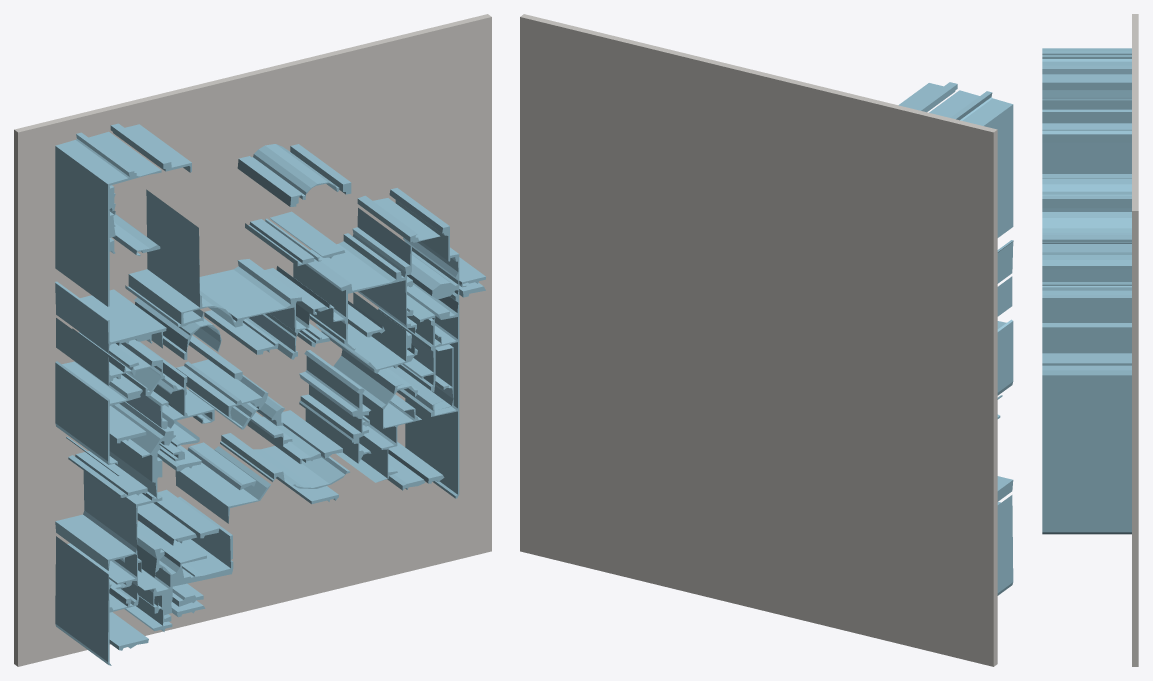
The picture shows the model from 3 angles, left to right: view 1: azimuth 30°, elevation 25°; view 2: azimuth 150°, elevation 25°; view 3: azimuth 270°, elevation 25°; orthographic projection. The views are drawn at different scales.
Visible parts, largest first — view 1: world; view 2: world; view 3: world.
Boxes of the visible parts, x1,y1,x2,y2 form: world: (14,14,491,666); world: (520,14,1013,666); world: (1042,14,1138,666).
Bounding box in the file's own units: 10.23 × 11.03 × 2.12.
